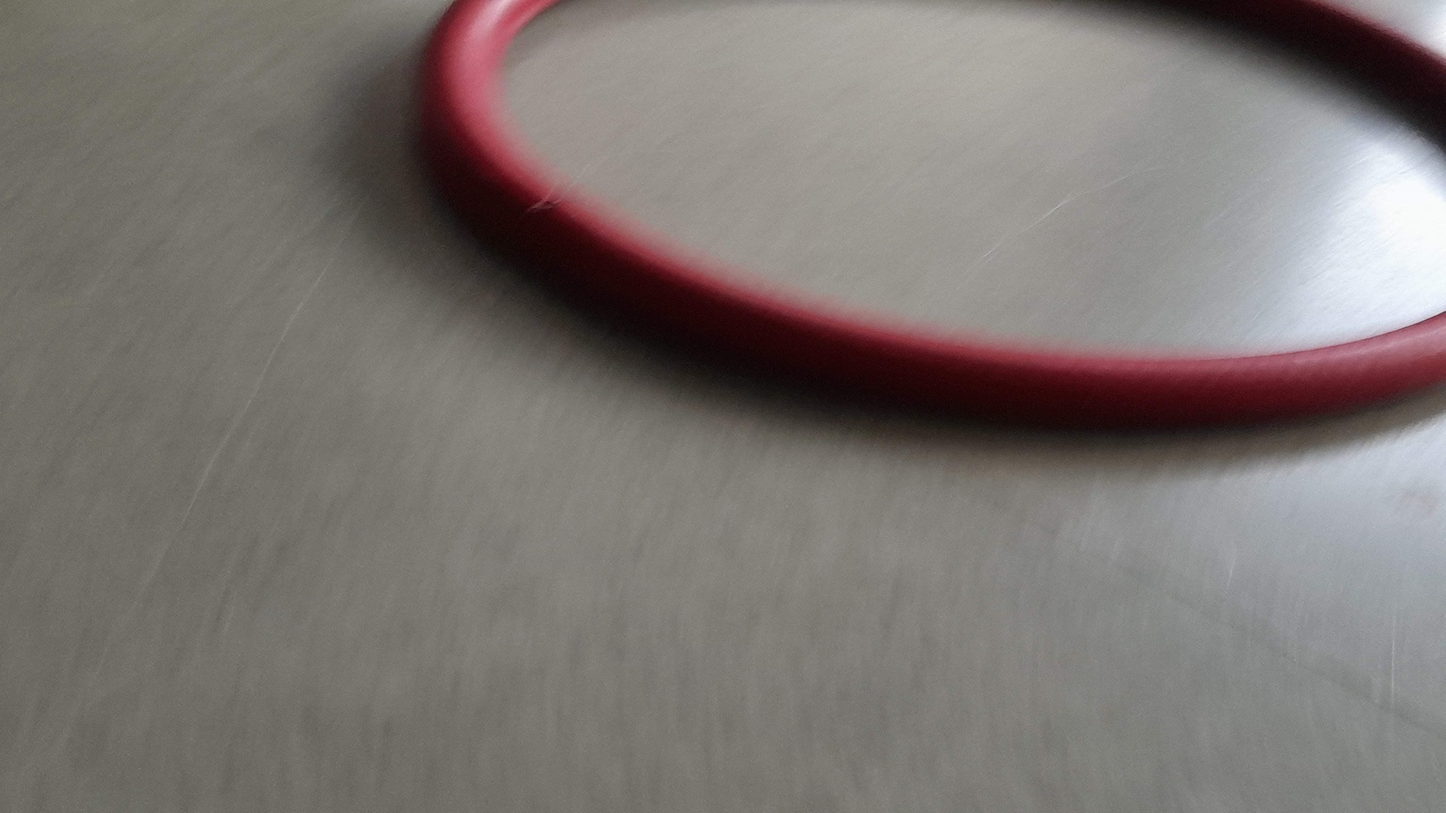Red ring: (409, 5, 1446, 412)
